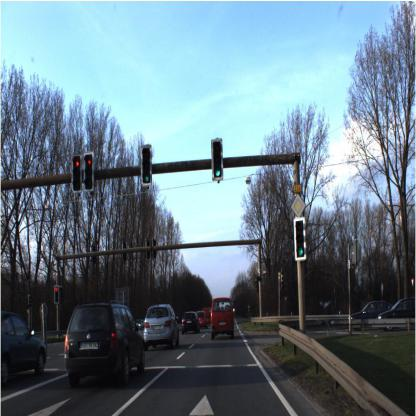other: (287, 192, 309, 218)
